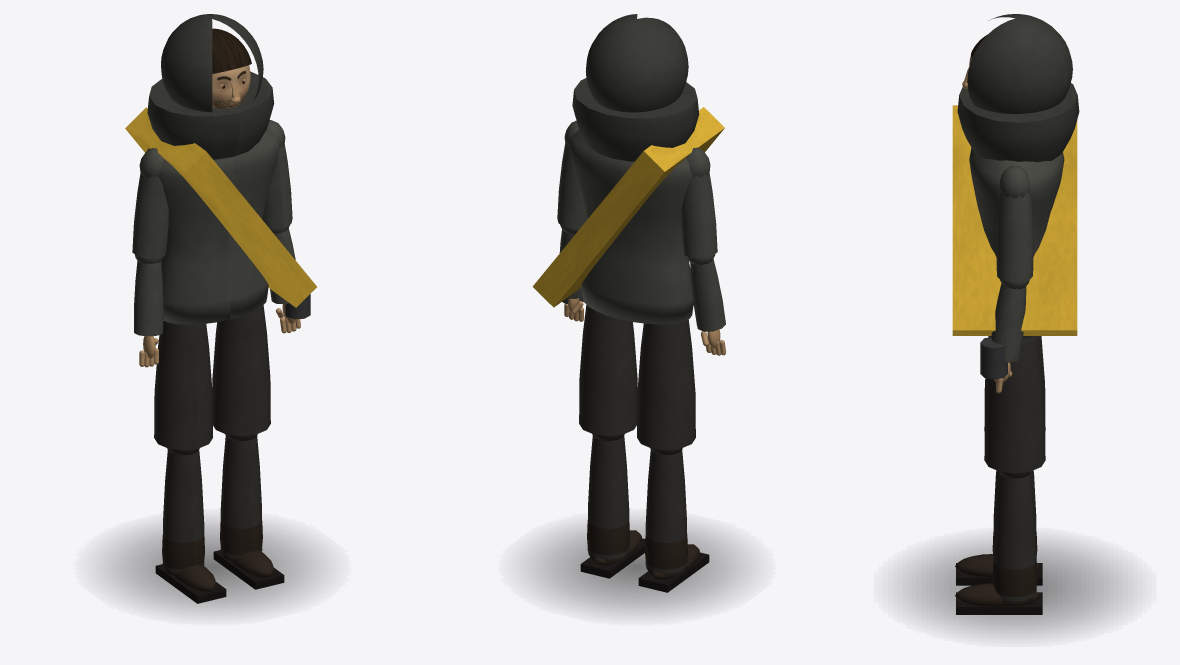
The model's file is npc_lamp1.glb.
The picture shows the model from 3 angles, left to right: view 1: azimuth 30°, elevation 25°; view 2: azimuth 150°, elevation 25°; view 3: azimuth 270°, elevation 25°; orthographic projection. The views are drawn at different scales.
Visible parts, largest first — view 1: chest, head, object 13, legL, legR, shinL, shinR, armL, foreL, armR, foreR; view 2: chest, head, object 13, legL, legR, shinL, shinR, armL, foreL, armR, foreR; view 3: chest, head, object 13, shinR, legR, armR, foreR, shinL, object 7.
Boxes of the visible parts, bbox=[...] form: chest: bbox=[125, 107, 316, 324]; head: bbox=[147, 14, 274, 159]; object 13: bbox=[101, 520, 323, 613]; legL: bbox=[154, 321, 212, 450]; legR: bbox=[212, 305, 270, 436]; shinL: bbox=[155, 448, 226, 603]; shinR: bbox=[213, 434, 284, 589]; armL: bbox=[132, 148, 168, 258]; foreL: bbox=[134, 254, 163, 367]; armR: bbox=[262, 120, 292, 229]; foreR: bbox=[270, 224, 300, 333]; chest: bbox=[532, 107, 724, 324]; head: bbox=[572, 14, 699, 161]; object 13: bbox=[526, 520, 748, 613]; legL: bbox=[637, 319, 695, 450]; legR: bbox=[579, 305, 637, 435]; shinL: bbox=[638, 448, 709, 592]; shinR: bbox=[580, 434, 645, 578]; armL: bbox=[681, 147, 717, 258]; foreL: bbox=[687, 254, 725, 355]; armR: bbox=[557, 120, 587, 228]; foreR: bbox=[559, 224, 583, 321]; chest: bbox=[952, 105, 1077, 342]; head: bbox=[957, 14, 1079, 162]; object 13: bbox=[902, 540, 1127, 634]; shinR: bbox=[955, 471, 1042, 614]; legR: bbox=[984, 337, 1045, 473]; armR: bbox=[996, 166, 1033, 282]; foreR: bbox=[991, 280, 1029, 393]; shinL: bbox=[955, 470, 1042, 585]; object 7: bbox=[980, 337, 1007, 379].
Bounding box in the file's own units: 0.868 × 1.83 × 0.868.
Materials: 8 (6 with a texture image).
